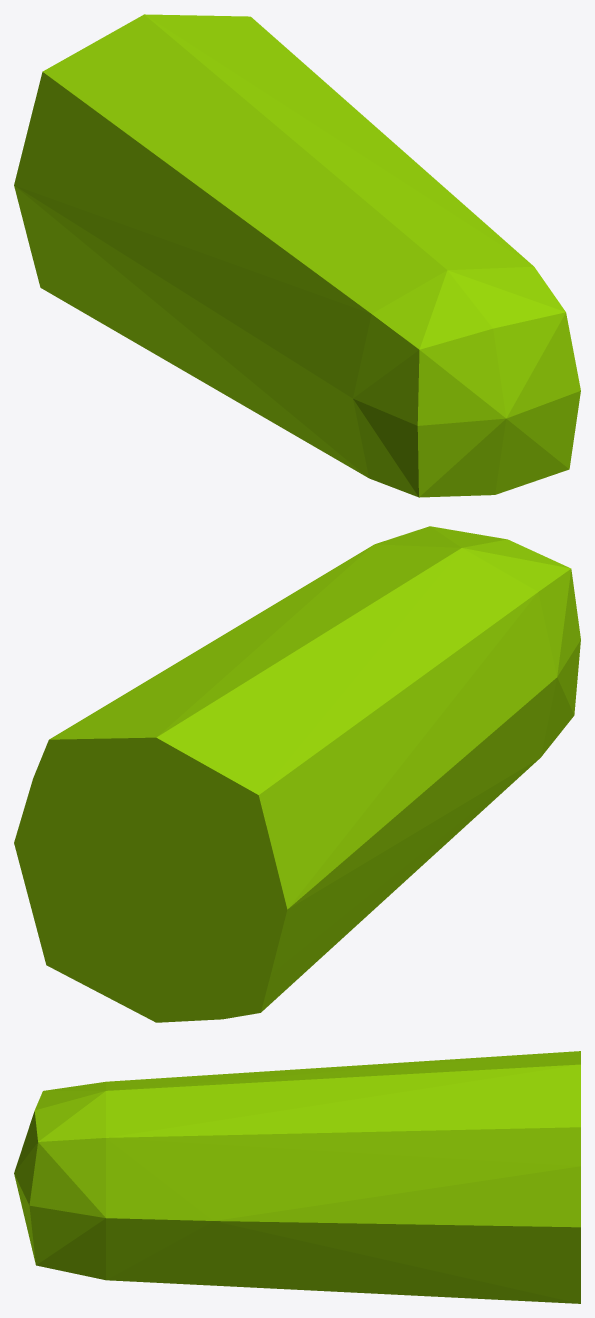
The picture shows the model from 3 angles, top to bottom: view 1: azimuth 30°, elevation 25°; view 2: azimuth 150°, elevation 25°; view 3: azimuth 270°, elevation 25°; orthographic projection. The views are drawn at different scales.
Size of the model in its own units: 2.01 by 2 by 4.64.
